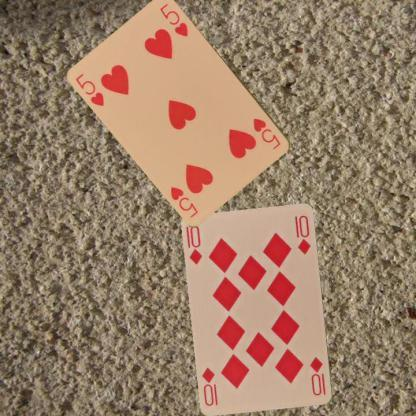10d: (308, 354, 328, 398), (187, 223, 204, 266)
5h: (73, 70, 106, 108), (250, 115, 282, 151)
